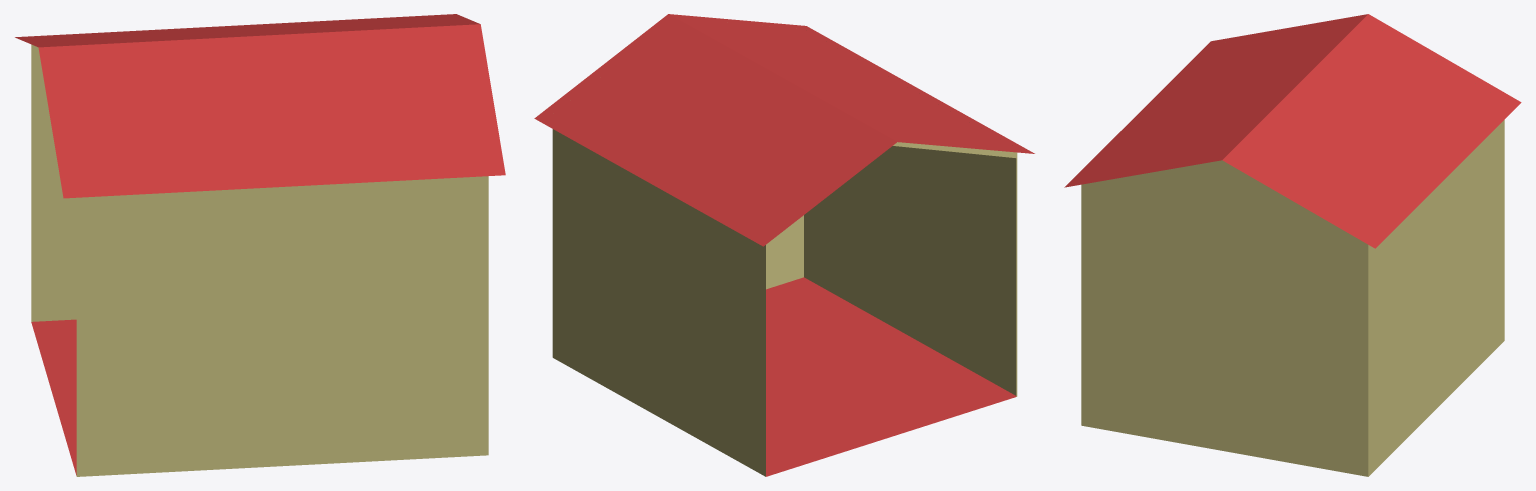
3 views of the same model, side by side, from view 1: azimuth 30°, elevation 25°; view 2: azimuth 150°, elevation 25°; view 3: azimuth 270°, elevation 25° (orthographic). The views are drawn at different scales.
Size of the model in its own units: 18.55 by 17.76 by 12.71.
